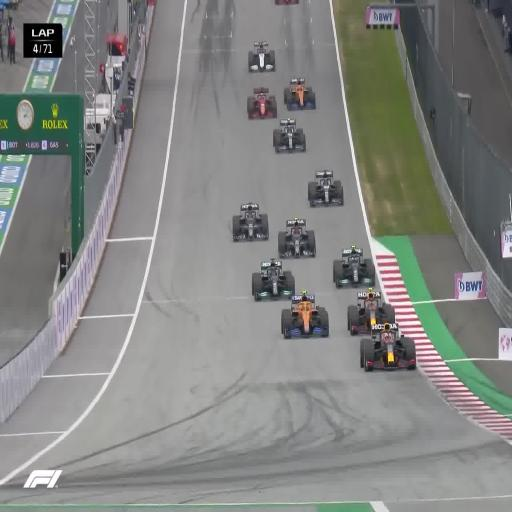f1_car: (360, 323, 416, 370), (281, 290, 329, 338), (347, 288, 395, 334), (252, 258, 295, 301), (333, 246, 375, 287), (278, 217, 315, 257), (233, 202, 269, 240), (308, 170, 343, 206), (273, 119, 306, 152), (284, 77, 316, 110), (247, 88, 277, 118), (248, 41, 275, 71), (275, 0, 299, 4)
